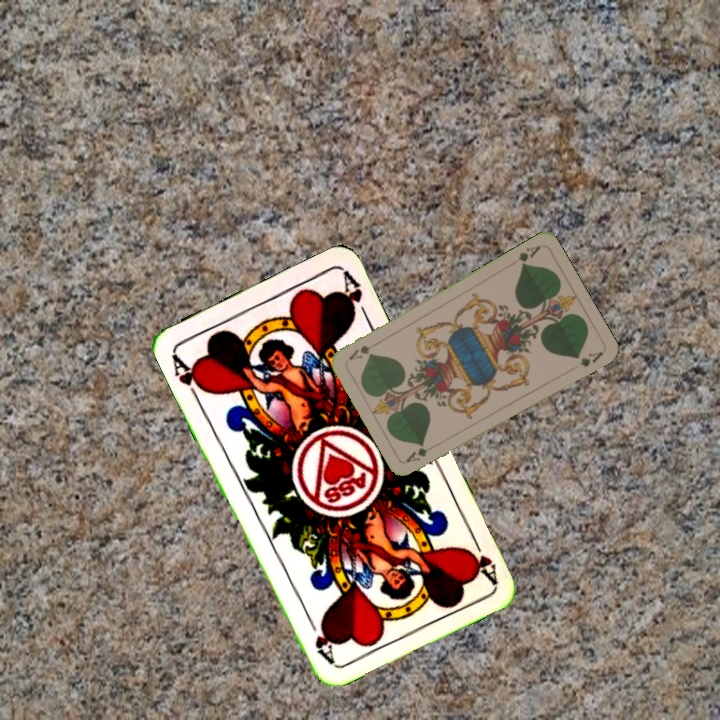GA: (507, 241, 543, 269), (402, 440, 440, 465)
HA: (167, 350, 210, 405), (461, 529, 500, 586)
